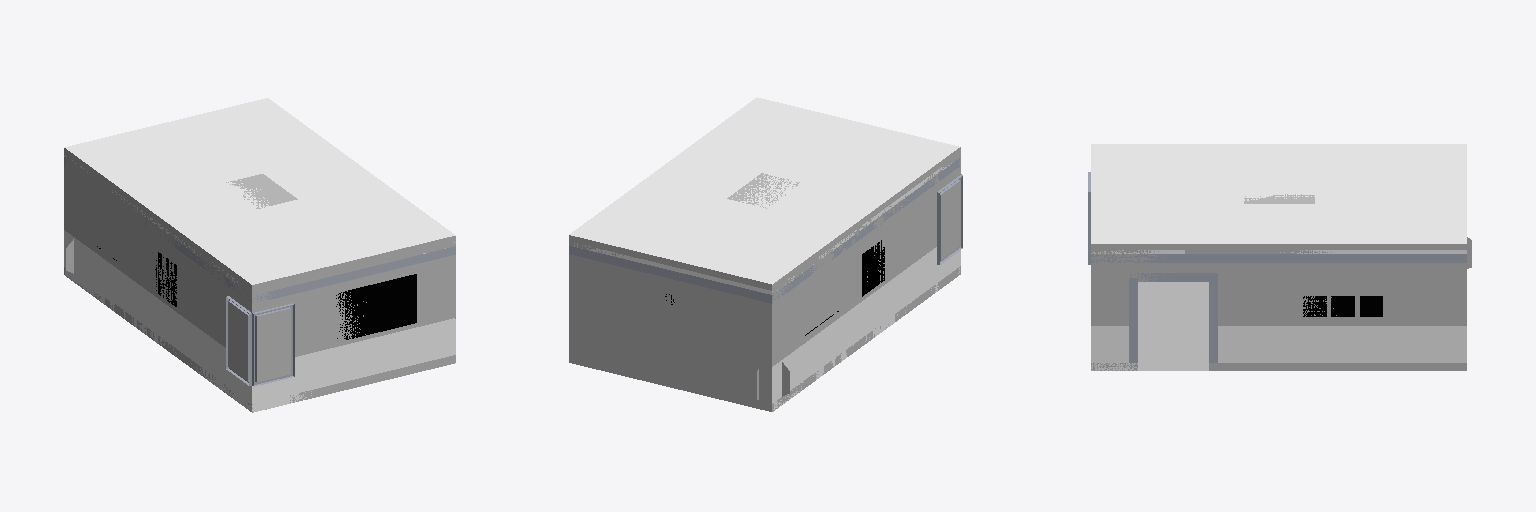
The model's file is room.obj.
The picture shows the model from 3 angles: view 1: azimuth 30°, elevation 25°; view 2: azimuth 150°, elevation 25°; view 3: azimuth 270°, elevation 25°; orthographic projection.
Parts seen in each view (by area): view 1: Plafon_Plane.005, Wall.001_Plane.001, Wall_Plane.004, Picture_Cube.168, Window.001_Cube.099, Window.002_Cube.011, UpperPlafon_Cube.006; view 2: Plafon_Plane.005, Wall.001_Plane.001, Wall.003_Plane.003, Misc_Cube.007, Misc.001_Cube.009, Window.002_Cube.011, Cermin_Cube.089, Cube.001_Cube.079, UpperPlafon_Cube.006; view 3: Plafon_Plane.005, Wall.002_Plane.002, Floor_Plane.
Part boxes in pixels (bbox=[...]): Plafon_Plane.005: bbox=[64, 98, 455, 284]; Wall.001_Plane.001: bbox=[64, 148, 251, 411]; Wall_Plane.004: bbox=[252, 236, 455, 412]; Picture_Cube.168: bbox=[336, 274, 416, 339]; Window.001_Cube.099: bbox=[252, 303, 294, 386]; Window.002_Cube.011: bbox=[226, 296, 251, 385]; UpperPlafon_Cube.006: bbox=[226, 174, 297, 208]; Plafon_Plane.005: bbox=[569, 97, 959, 284]; Wall.001_Plane.001: bbox=[772, 147, 960, 411]; Wall.003_Plane.003: bbox=[569, 235, 771, 403]; Misc_Cube.007: bbox=[726, 293, 745, 396]; Misc.001_Cube.009: bbox=[595, 261, 615, 365]; Window.002_Cube.011: bbox=[937, 175, 962, 264]; Cermin_Cube.089: bbox=[862, 240, 884, 296]; Cube.001_Cube.079: bbox=[574, 243, 813, 294]; UpperPlafon_Cube.006: bbox=[727, 173, 799, 208]; Plafon_Plane.005: bbox=[1091, 144, 1466, 243]; Wall.002_Plane.002: bbox=[1091, 244, 1466, 370]; Floor_Plane: bbox=[1138, 282, 1208, 370].
Bounding box in the file's own units: 5.19 × 3 × 8.17.